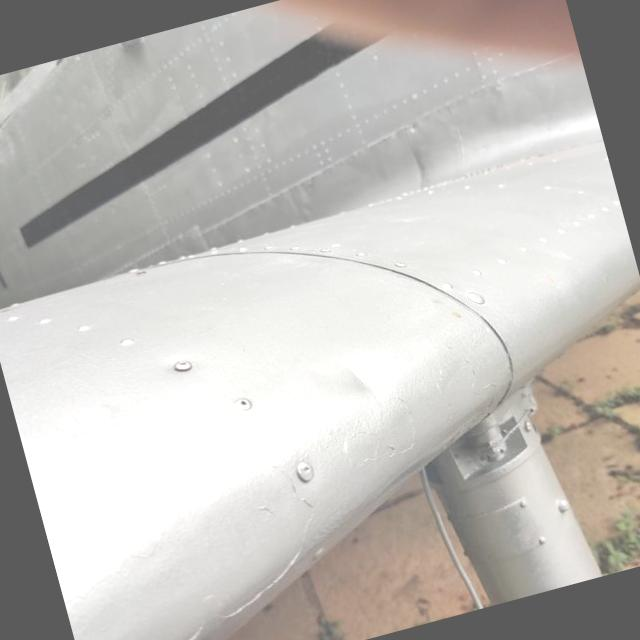dent: (297, 318, 412, 432)
